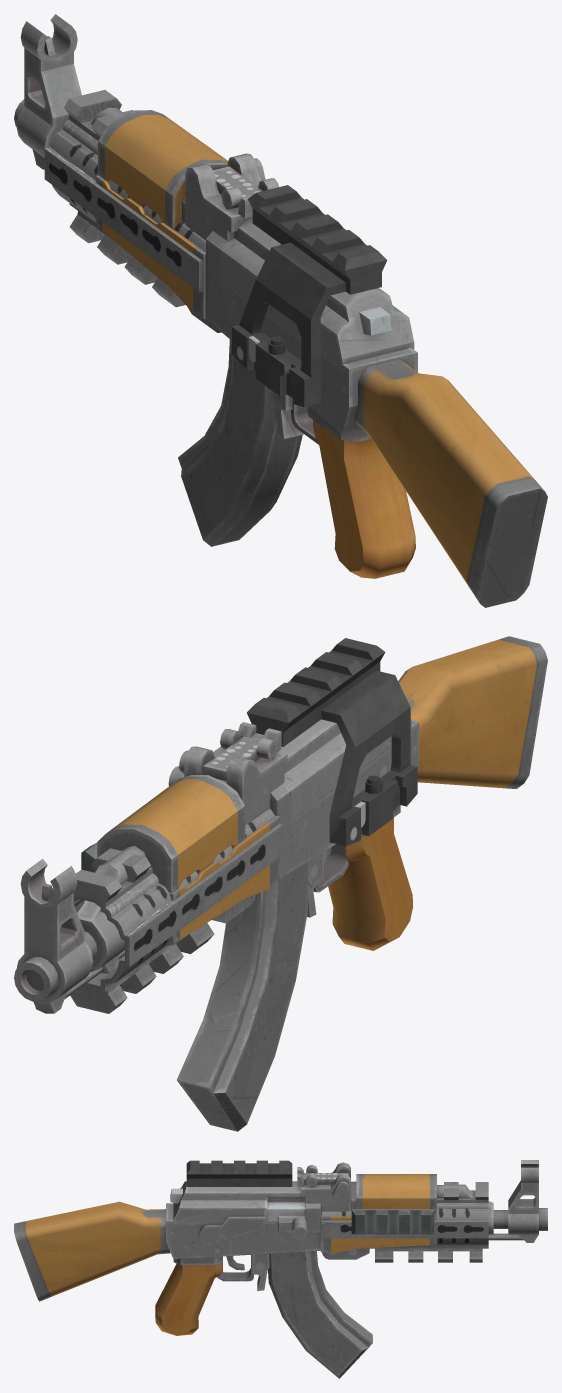
File: IG_Gun_AK47.fbx
3 views of the same model, one above another, from view 1: azimuth 30°, elevation 25°; view 2: azimuth 150°, elevation 25°; view 3: azimuth 270°, elevation 25° (orthographic). The views are drawn at different scales.
Visible parts, largest first — view 1: WPN_AK47, HideIf_Stock, ShowIf_Scope, ShowIf_Grip, HideIf_Grip; view 2: WPN_AK47, HideIf_Stock, ShowIf_Scope, ShowIf_Grip, HideIf_Grip; view 3: WPN_AK47, HideIf_Stock, ShowIf_Grip, HideIf_Grip, ShowIf_Scope, ShowIf_Tec.
Part boxes in pixels (left/top/right/bottom): WPN_AK47: left=14, top=14, right=417, bottom=578; HideIf_Stock: left=354, top=358, right=547, bottom=607; ShowIf_Scope: left=232, top=185, right=387, bottom=406; ShowIf_Grip: left=44, top=90, right=221, bottom=332; HideIf_Grip: left=90, top=107, right=228, bottom=318; WPN_AK47: left=14, top=718, right=419, bottom=1131; HideIf_Stock: left=398, top=636, right=547, bottom=788; ShowIf_Scope: left=246, top=638, right=417, bottom=846; ShowIf_Grip: left=70, top=808, right=282, bottom=1013; HideIf_Grip: left=77, top=774, right=279, bottom=973; WPN_AK47: left=155, top=1160, right=547, bottom=1378; HideIf_Stock: left=14, top=1201, right=170, bottom=1301; ShowIf_Grip: left=321, top=1182, right=488, bottom=1262; HideIf_Grip: left=320, top=1174, right=493, bottom=1253; ShowIf_Scope: left=186, top=1160, right=292, bottom=1186; ShowIf_Tec: left=351, top=1209, right=434, bottom=1234.
Size of the model in its own units: 0.1812 by 0.4711 by 1.08.
